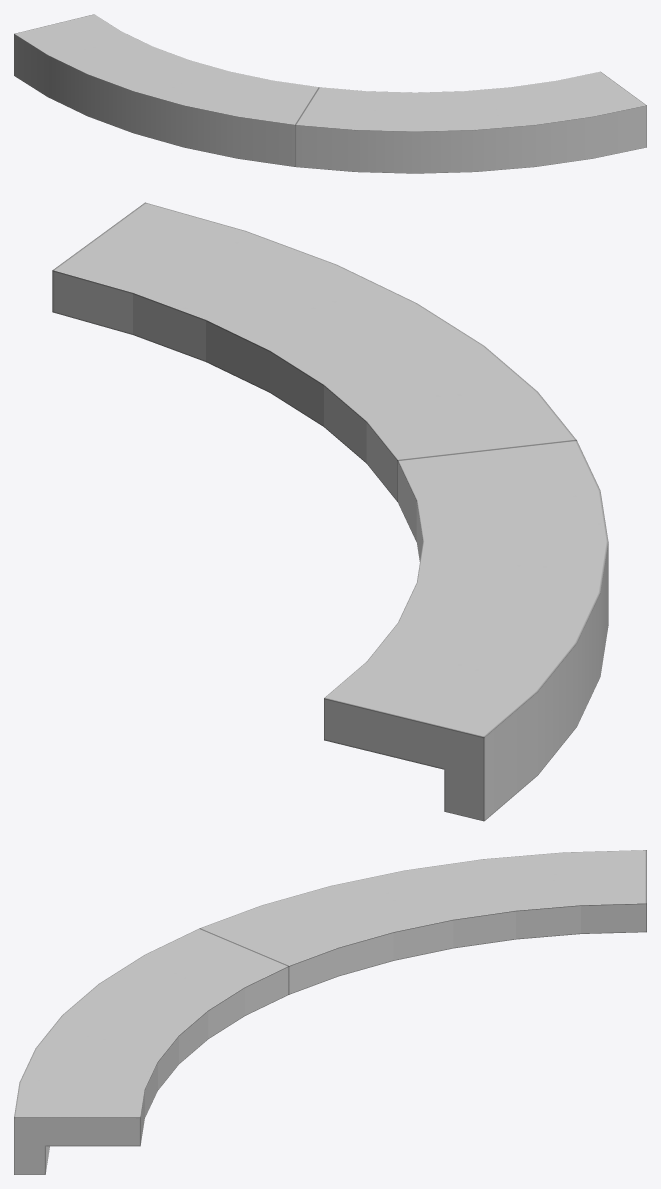
File: Wall_Top_Angle_01.FBX
The picture shows the model from 3 angles, top to bottom: view 1: azimuth 30°, elevation 25°; view 2: azimuth 150°, elevation 25°; view 3: azimuth 270°, elevation 25°; orthographic projection. The views are drawn at different scales.
Visible parts, largest first — view 1: Wall_Top_Angle_01; view 2: Wall_Top_Angle_01; view 3: Wall_Top_Angle_01.
Part boxes in pixels (x1=…): Wall_Top_Angle_01: x1=14, y1=14, x2=646, y2=173; Wall_Top_Angle_01: x1=52, y1=202, x2=608, y2=821; Wall_Top_Angle_01: x1=14, y1=850, x2=646, y2=1174.
Size of the model in its own units: 10 by 1 by 10.
